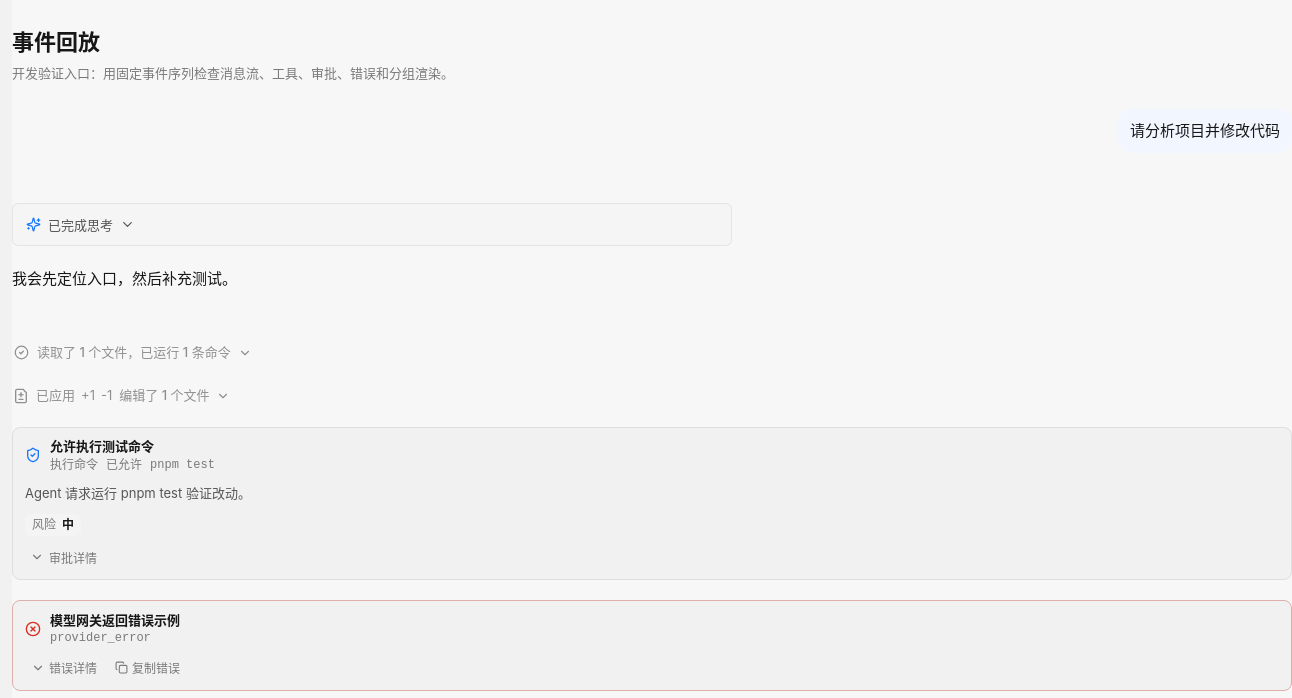
EventReplayHarness › renders a full replay fixture through the real message reducer and message list
The image size is (1292, 698).
Expected: the text "请分析项目并修改代码" is shown, [1130,118,1280,144]
Click the button "已完成思考". click: (81, 225)
box: [19,210,725,239]
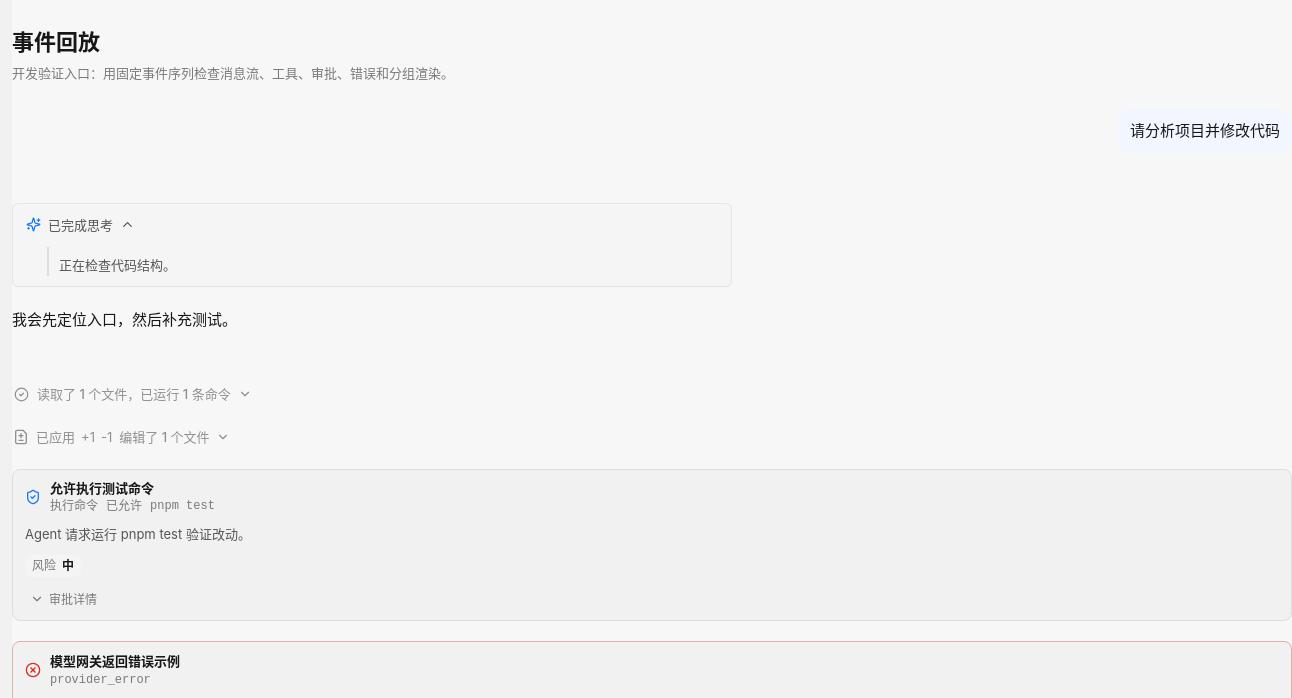
Expected: the text "允许执行测试命令" is shown, [50,480,154,496]
Expected: the text "正在检查代码结构。" is shown, [47,247,718,276]
Click the button with aria-label "读取了 1 个文件，已运行 1 条命令详情". click: (143, 394)
box: [12,383,275,406]
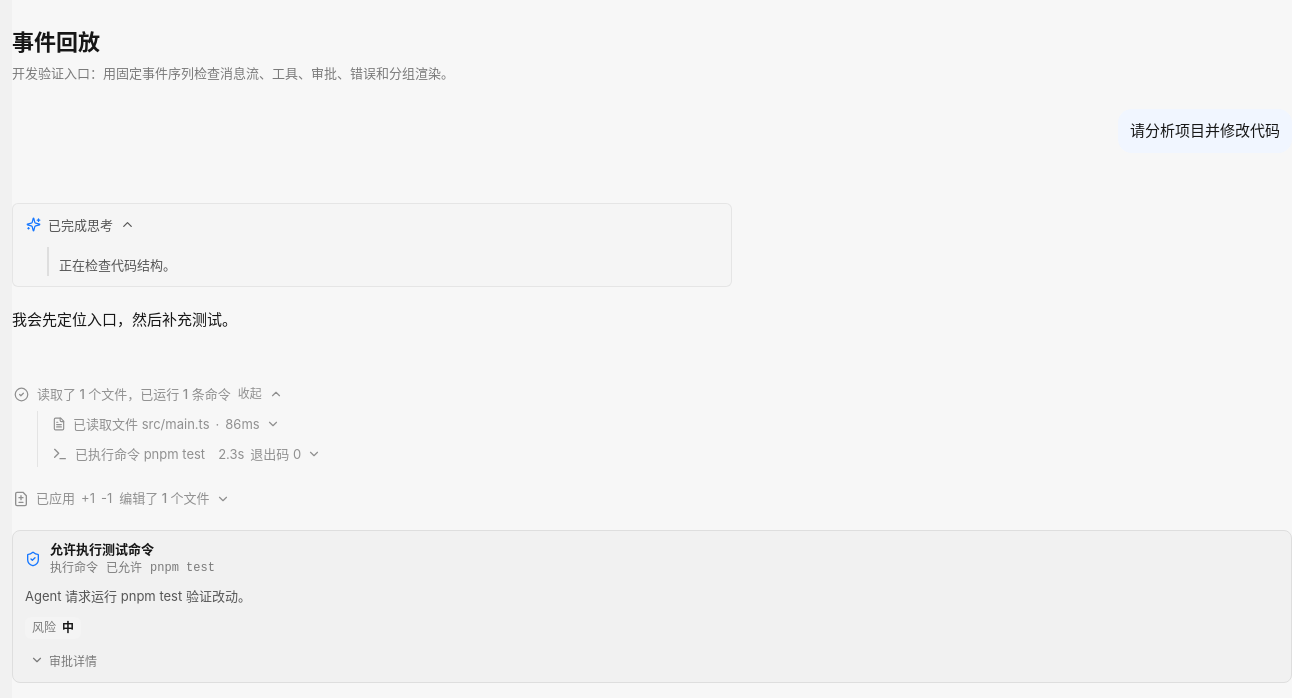
Expected: the element with test id "tool-call-block" is shown, [51,413,280,436]
Expected: the element with test id "command-execution-block" is shown, [51,442,323,465]
